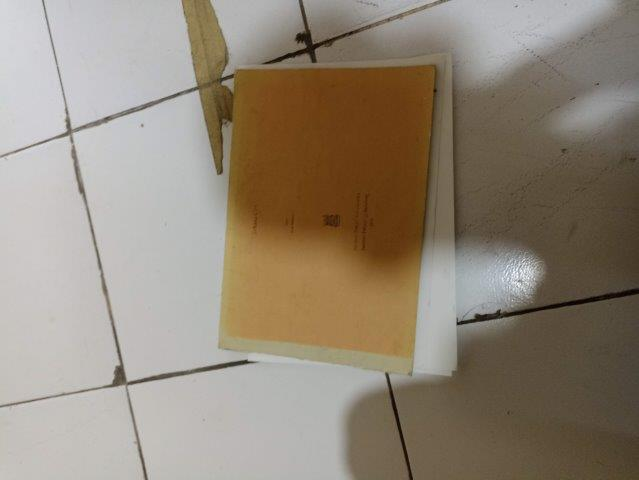kertas: (218, 52, 457, 377)
